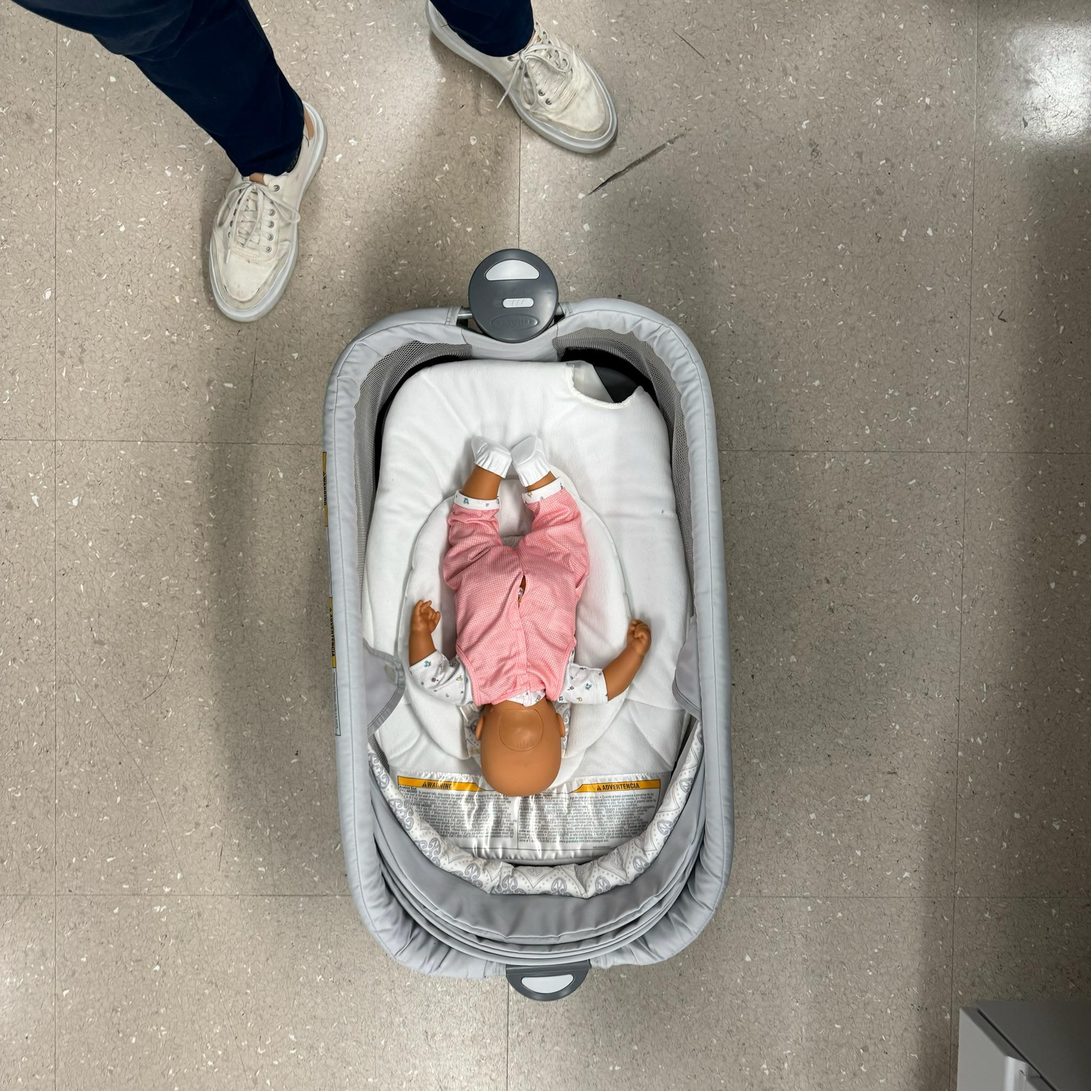baby: (402, 428, 653, 805)
